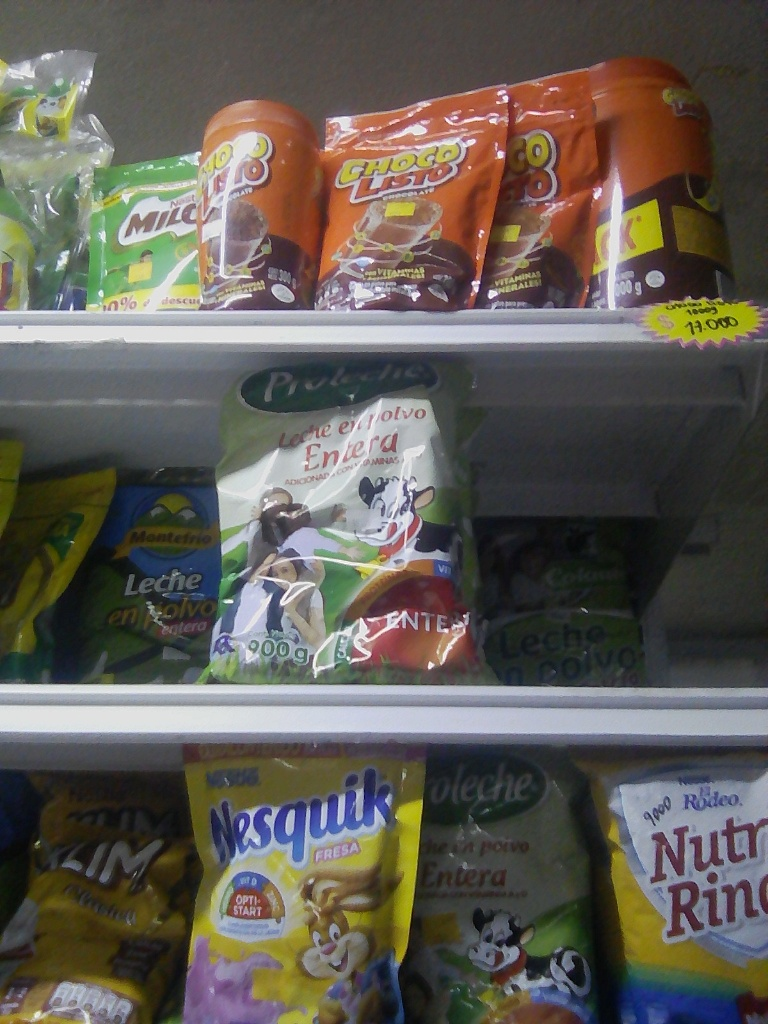COL0170103TRR00100: (571, 51, 754, 307)
COL0170103TRR30000: (194, 101, 325, 305)
COL0170203DYP25000: (83, 153, 207, 310)
COL0170305DYP20000: (178, 742, 417, 1024)
